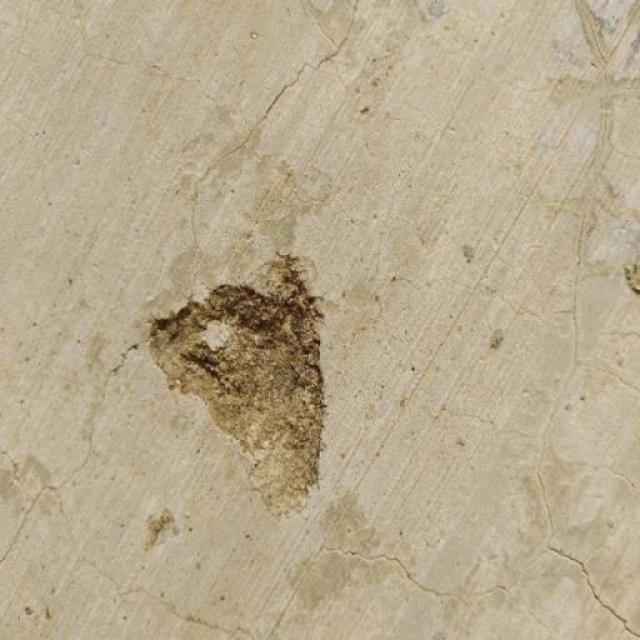D10: (145, 260, 325, 519)
